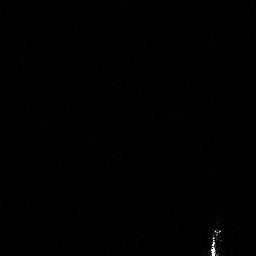ship: (206, 226, 224, 256)
